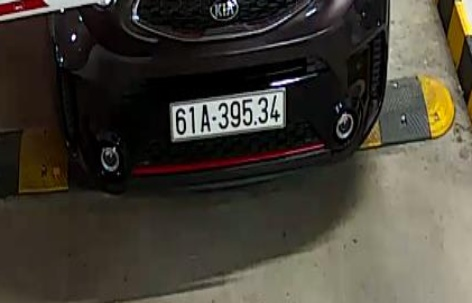plate: (166, 84, 293, 145)
